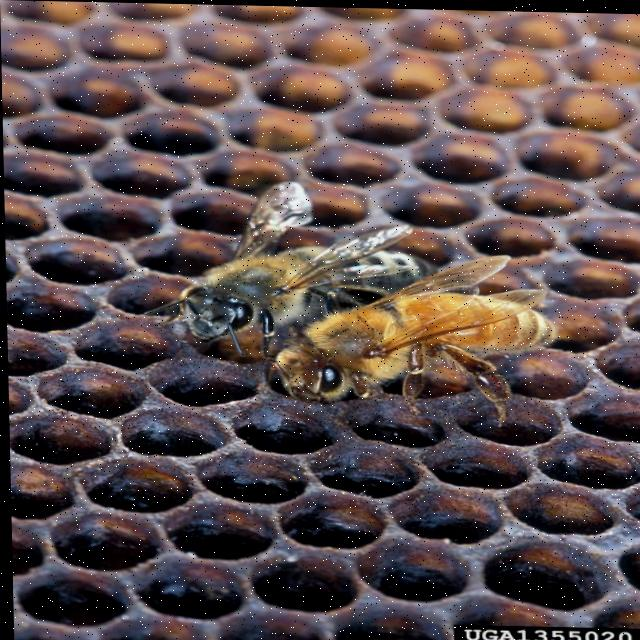Apis-mellifera-scutellata: (263, 243, 569, 432), (170, 167, 443, 358)
